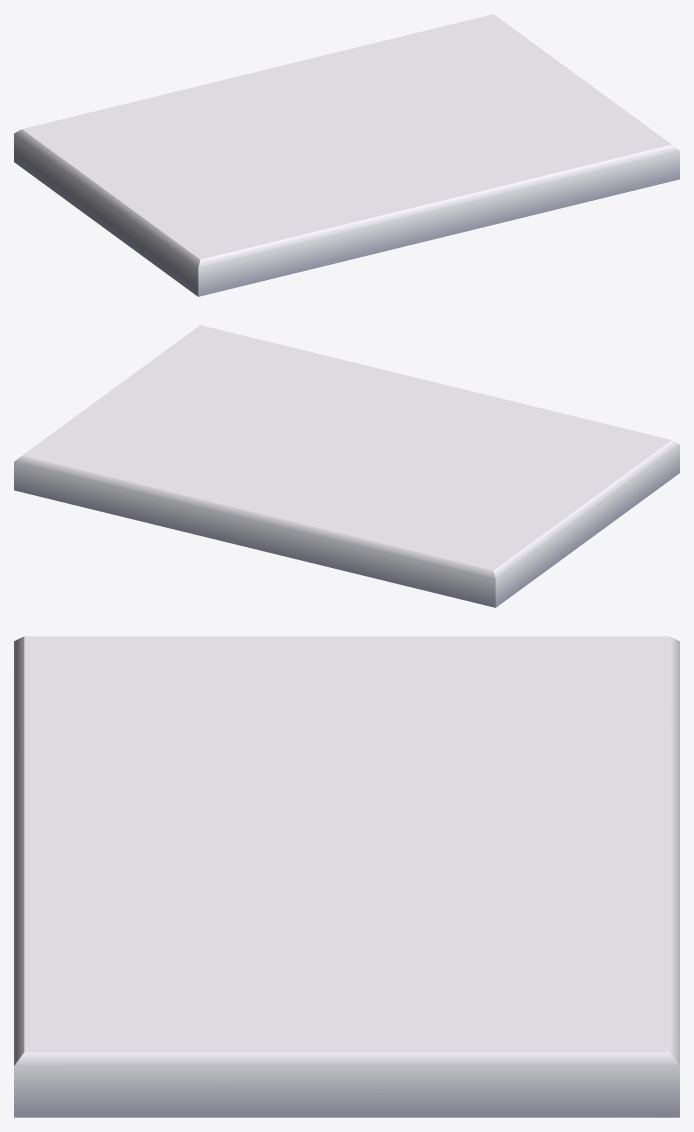
The model's file is none-hq-plate-4x6.glb.
The picture shows the model from 3 angles, top to bottom: view 1: azimuth 30°, elevation 25°; view 2: azimuth 150°, elevation 25°; view 3: azimuth 270°, elevation 25°; orthographic projection. The views are drawn at different scales.
Visible parts, largest first — view 1: none-hq-plate-4x6; view 2: none-hq-plate-4x6; view 3: none-hq-plate-4x6.
Boxes of the visible parts, left/top/right/bottom form: none-hq-plate-4x6: left=14, top=14, right=679, bottom=296; none-hq-plate-4x6: left=14, top=325, right=679, bottom=607; none-hq-plate-4x6: left=14, top=636, right=679, bottom=1117.
Size of the model in its own units: 0.477 by 0.032 by 0.316.
Materials: 1 (1 with a texture image).
